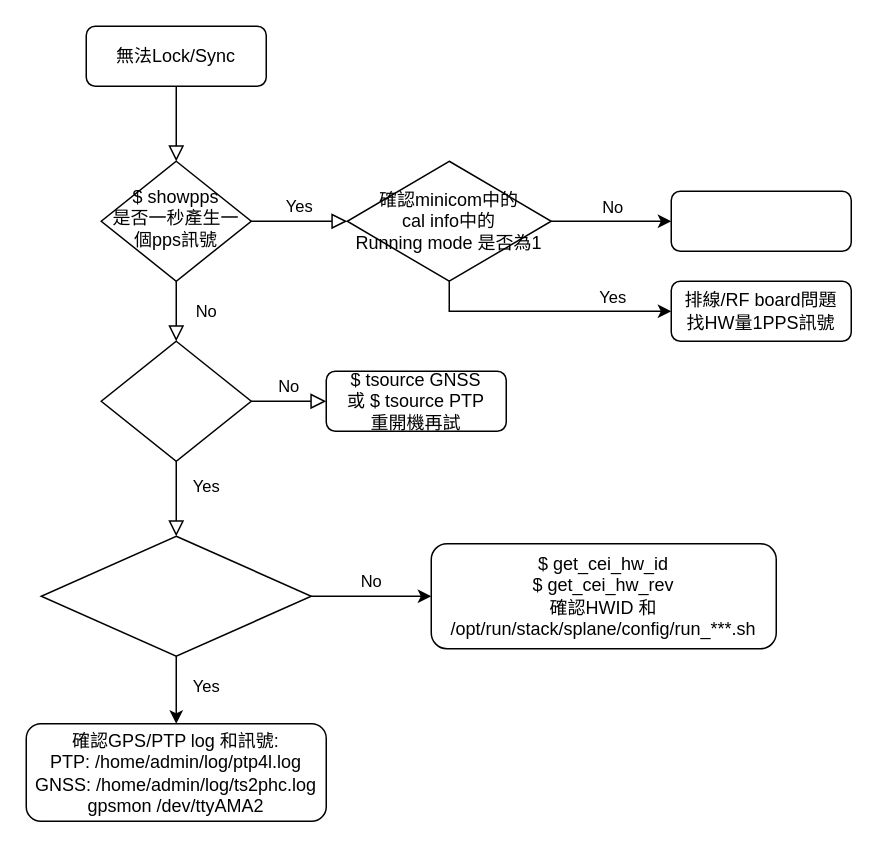
This 878x848 diagram has some shape labels left out. Here are the shapes that lost their labels. From the top down, the centre of each, then its label:
point (760, 220): 執行 cal switch 1 後重開機再試
point (175, 400): $ tsource 是否為User 設定的GNSS或PTP
point (175, 595): $ i2cget -f -y 0 0x23 0x5 若GNSS 是否為0x8e 若PTP是否為0x84
